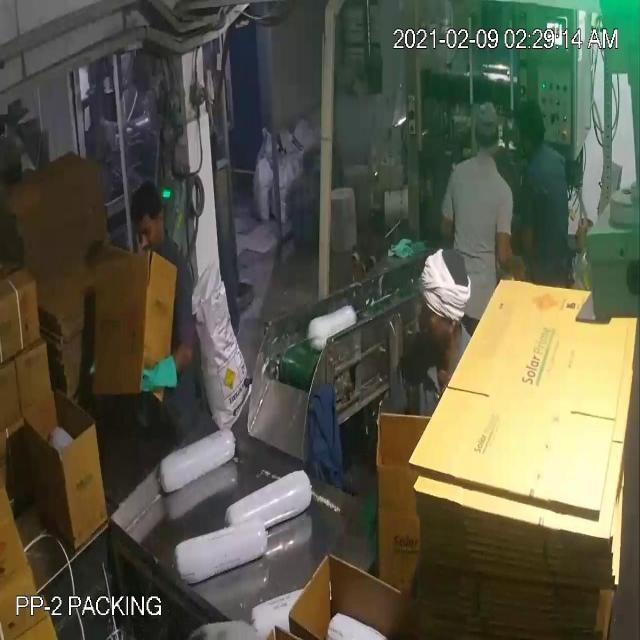Gloves: (51, 57, 508, 370)
